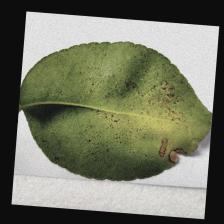canker: (132, 74, 188, 121)
